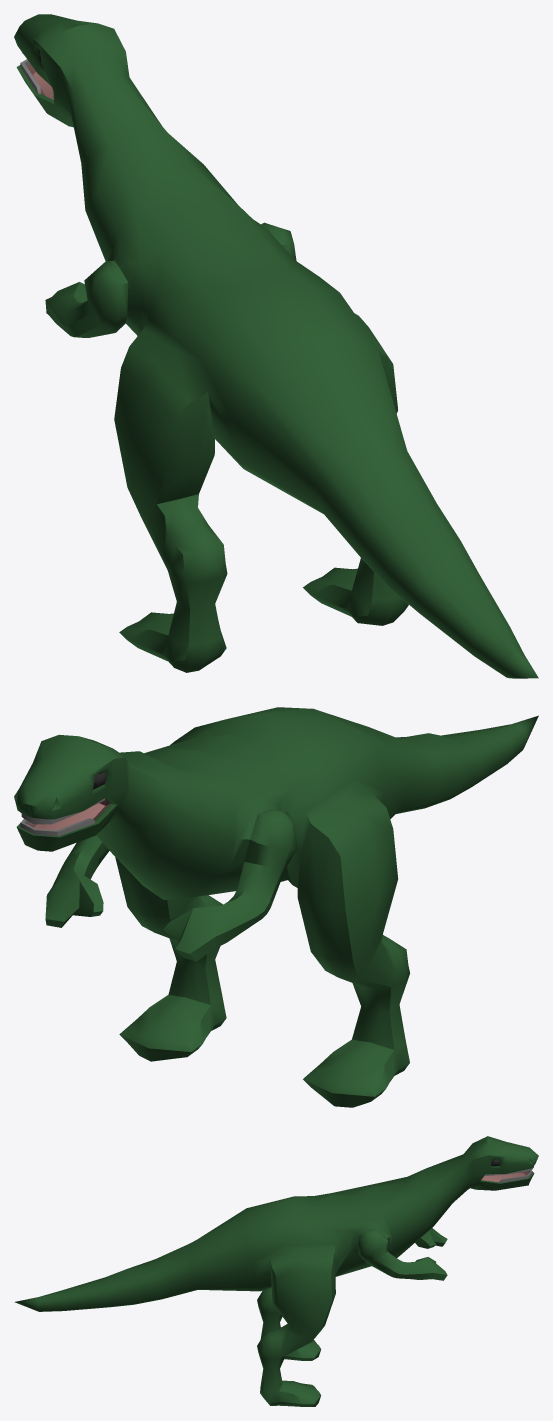
The model's file is PlayerObject.fbx.
The picture shows the model from 3 angles, top to bottom: view 1: azimuth 30°, elevation 25°; view 2: azimuth 150°, elevation 25°; view 3: azimuth 270°, elevation 25°; orthographic projection. The views are drawn at different scales.
Visible parts, largest first — view 1: Cube; view 2: Cube; view 3: Cube.
Boxes of the visible parts, x1,y1,x2,y2 form: Cube: (14, 14, 538, 678); Cube: (14, 707, 538, 1107); Cube: (14, 1136, 538, 1406).
Bounding box in the file's own units: 142 × 249 × 493.
